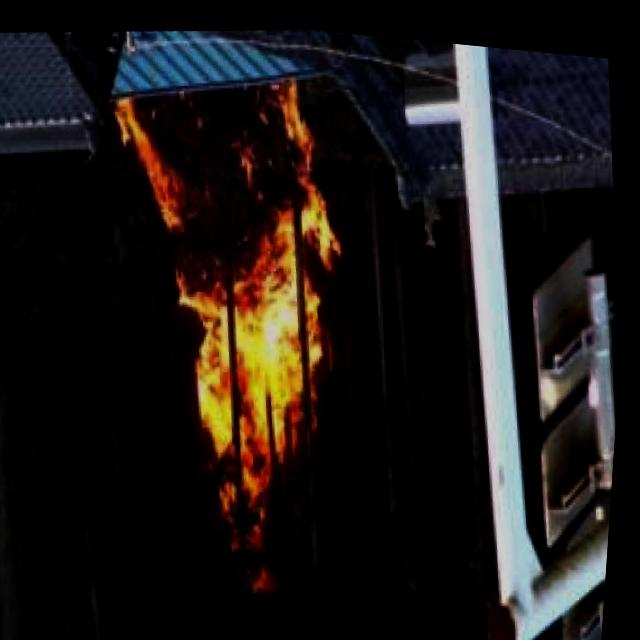helmet: (85, 45, 398, 634)
